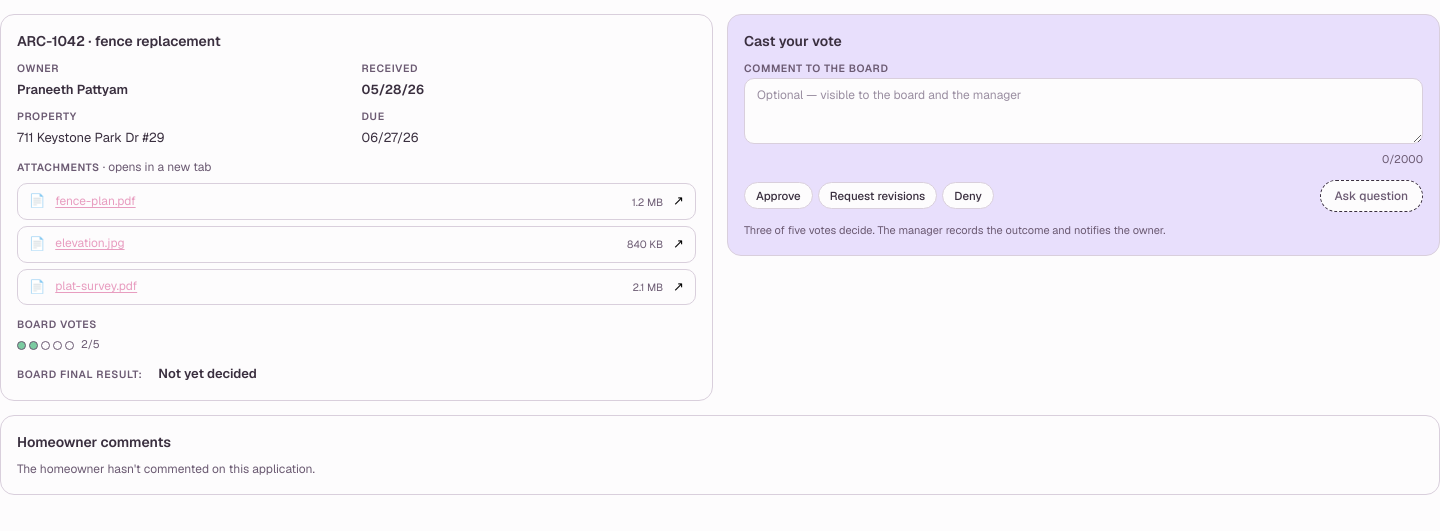
ApplicationDetailPanelComponent (027 US3) › shows "Attachment unavailable" when the link fails
Expected: the heading "ARC-1042 · fence replacement" is shown, [17,32,221,50]
What coordinates should you click on to do the following:
click the button with aria-label "Open fence-plan.pdf in a new tab"
I would click on:
 (95, 201)
Its box is [17,183,696,220].
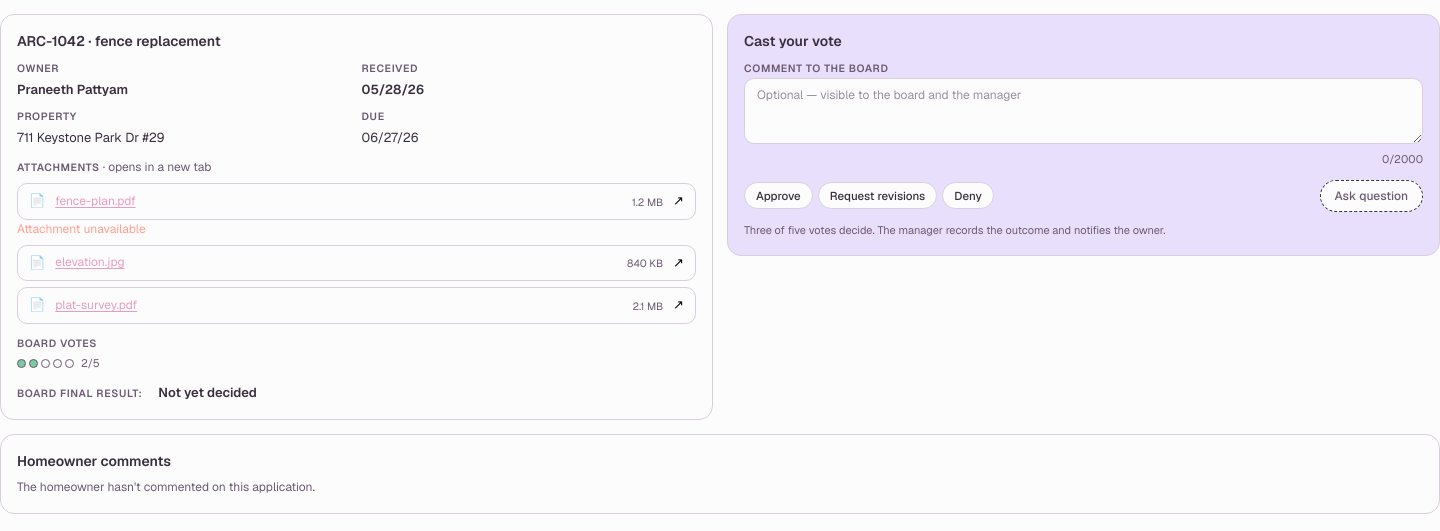
Expected: the text "Attachment unavailable" is shown, [17,221,146,237]
